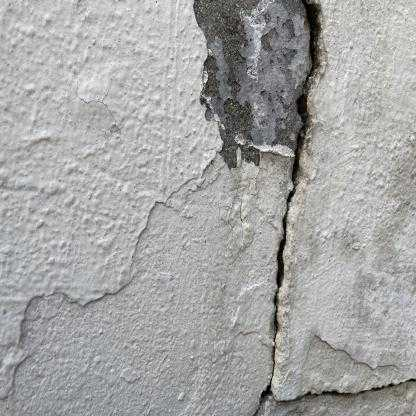crack: (264, 3, 321, 392)
